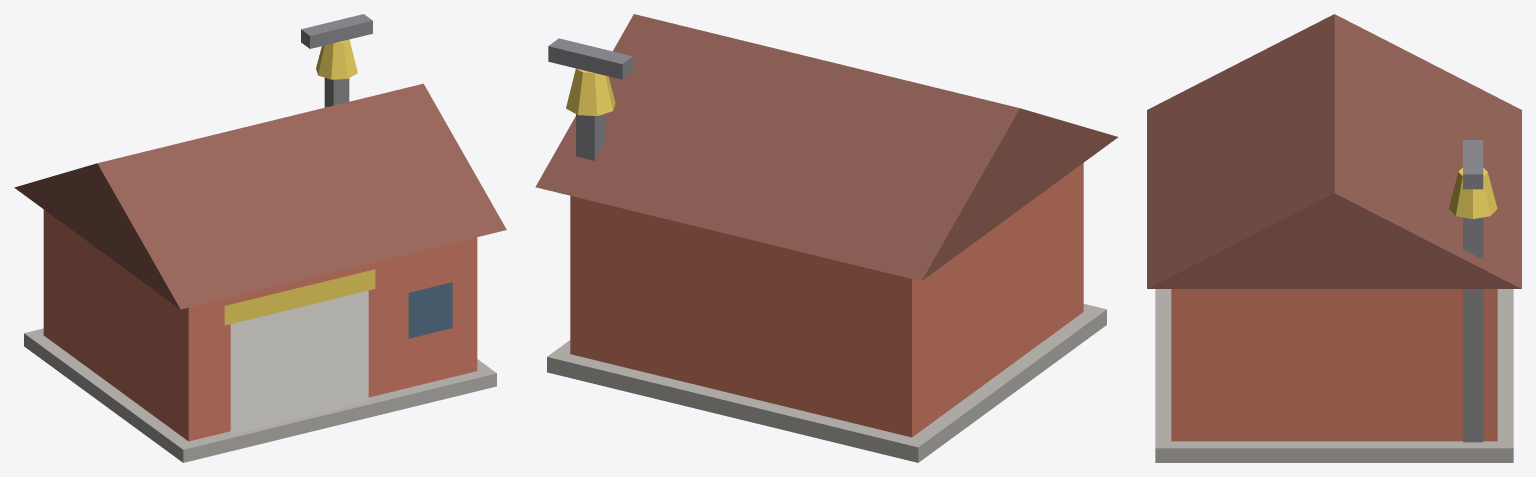
Rendered from volunteer_fire_hall.glb.
3 renders of one model, left to right at view 1: azimuth 30°, elevation 25°; view 2: azimuth 150°, elevation 25°; view 3: azimuth 270°, elevation 25°, orthographic. The views are drawn at different scales.
Parts seen in each view (by area): view 1: volunteer_fire_hall; view 2: volunteer_fire_hall; view 3: volunteer_fire_hall.
Boxes of the visible parts, x1,y1,x2,y2 form: volunteer_fire_hall: (14, 14, 506, 462); volunteer_fire_hall: (535, 14, 1118, 462); volunteer_fire_hall: (1147, 14, 1521, 462).
Size of the model in its own units: 0.53 by 0.4 by 0.46.
